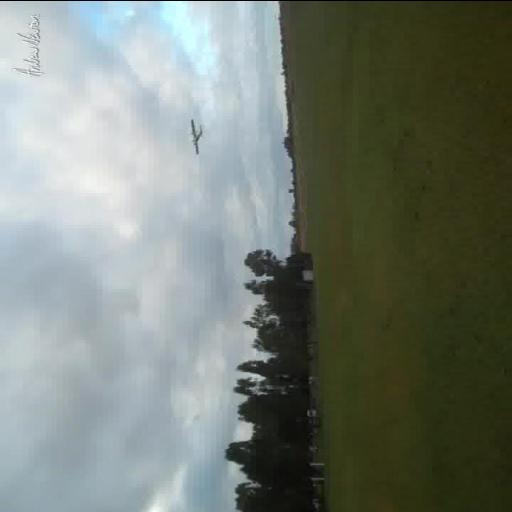uav: (176, 116, 214, 154)
